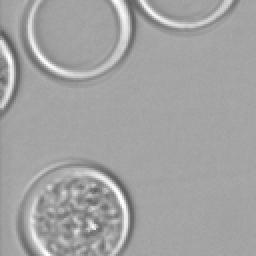picoshell: (16, 162, 132, 254), (22, 0, 132, 80), (134, 0, 236, 30), (0, 30, 18, 114)
